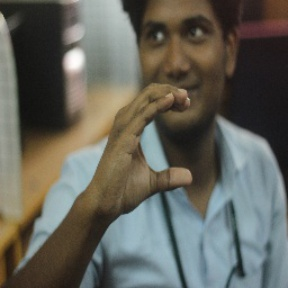C: (104, 75, 209, 204)
